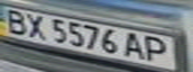5: (45, 16, 69, 45), (63, 20, 84, 48)
6: (100, 27, 124, 55)
7: (81, 22, 103, 52)
A: (121, 30, 148, 61)
B: (0, 7, 30, 35)
P: (139, 35, 172, 64)
X: (21, 11, 51, 39)
